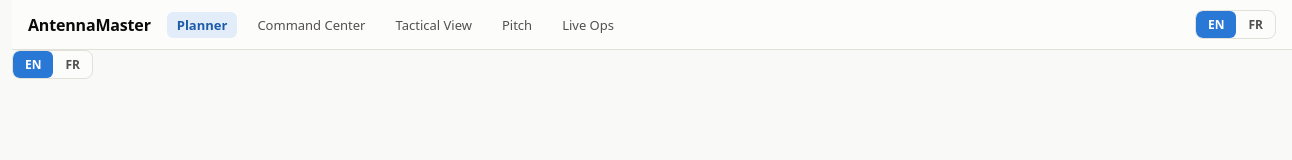
Test: Internationalization › LocaleSwitcher switches language and translates the header nav
This screenshot has width=1292, height=160.
expect the link "Command Center" is shown: met, box [257,16,366,34]
Note: Click FR — nav labels must become French.
What coordinates should you click on to do the following:
click the button "FR" in the row of "Live Ops"
I would click on:
 (1256, 24)
Its box is [1236,11,1275,38].
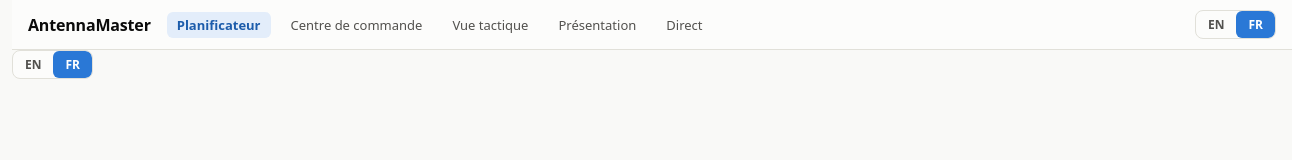
expect the link "Centre de commande" is shown: met, box [280,12,432,38]
